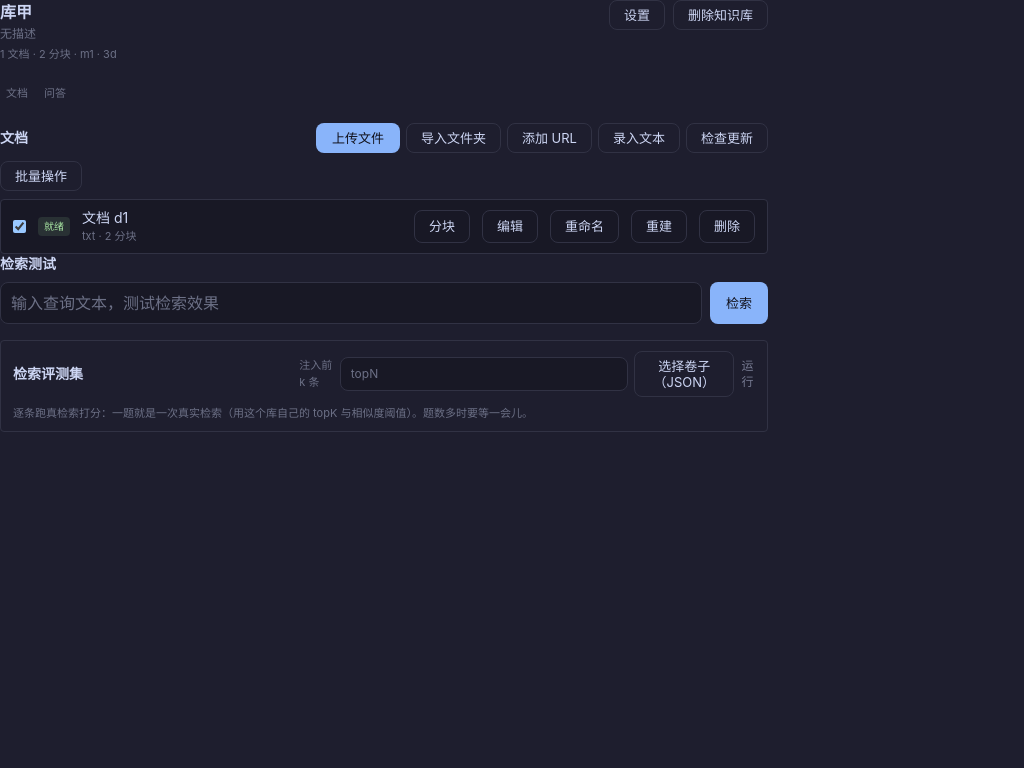
K1 文档重命名：失败不许演成功 › 正向对照：成功那趟照常报「已重命名」并关窗
Expected: the text "文档 d1" is shown, [82,209,128,226]
What coordinates should you click on to do the following:
click the button "重命名"
I would click on:
 (584, 226)
Its box is [550,210,619,243].
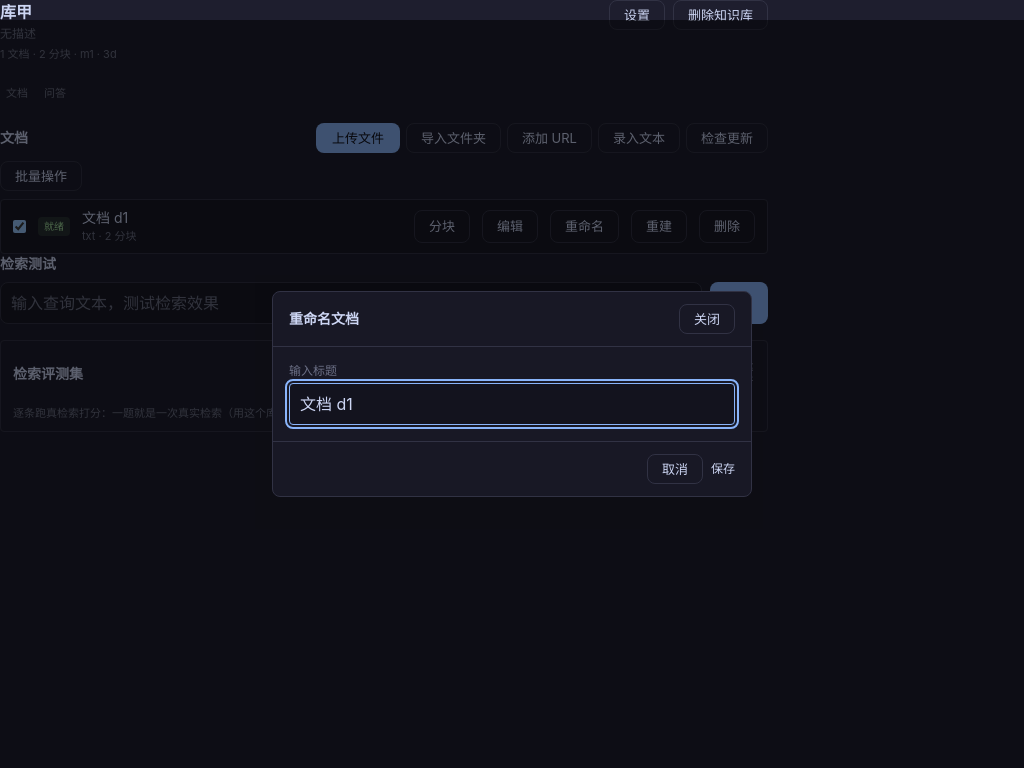
Expected: the heading "重命名文档" is shown, [289,309,359,329]
What coordinates should you click on to do the following:
click the button "保存"
I would click on:
 (723, 469)
Its box is [711,454,735,484].
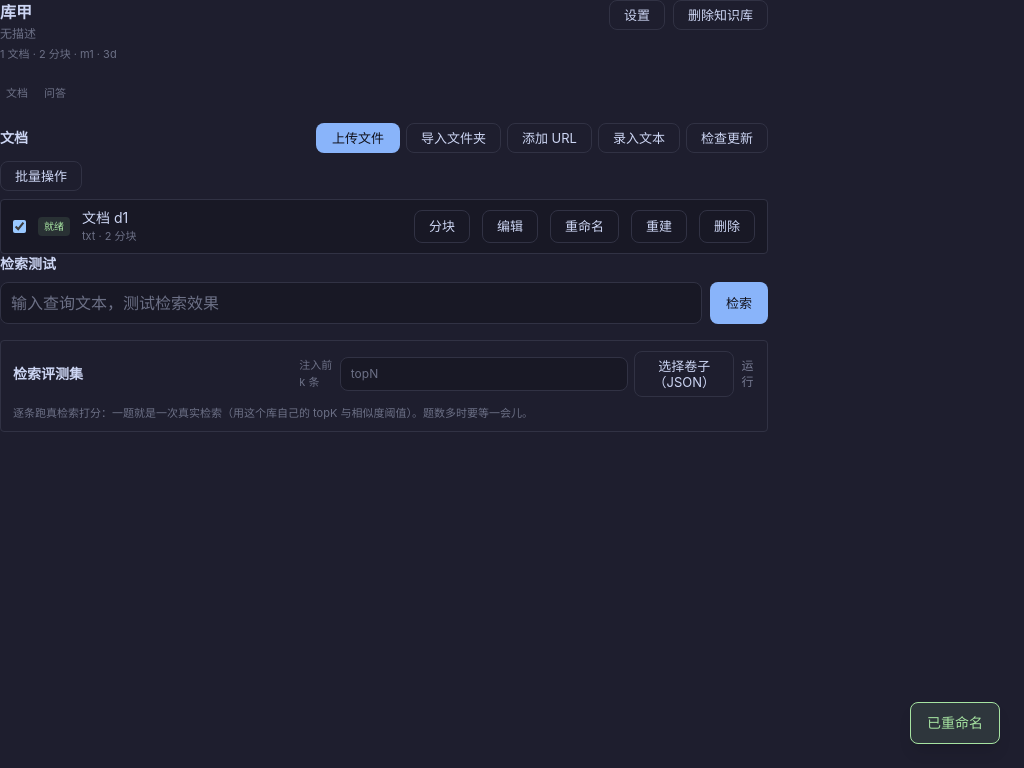
Expected: the message reads "已重命名", [927,714,983,731]
Expected: the heading "重命名文档" is gone
